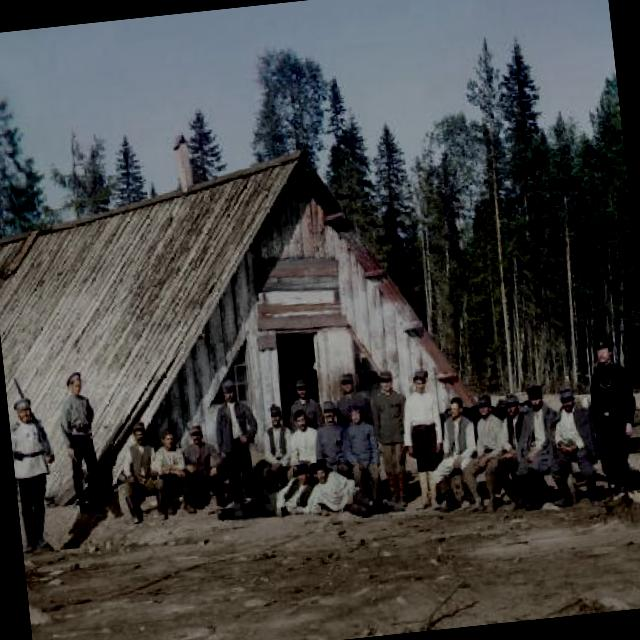Person: (583, 324, 636, 494), (6, 392, 59, 553), (368, 368, 426, 512), (539, 382, 604, 508), (55, 368, 108, 516), (208, 376, 264, 500), (394, 364, 449, 482), (458, 382, 510, 501), (296, 451, 378, 522), (111, 413, 163, 521), (494, 384, 538, 511), (338, 395, 386, 504), (216, 458, 308, 514), (426, 384, 472, 493), (519, 377, 556, 490), (154, 422, 193, 516), (304, 394, 346, 480), (280, 408, 322, 488), (176, 422, 216, 502), (264, 404, 290, 480)
